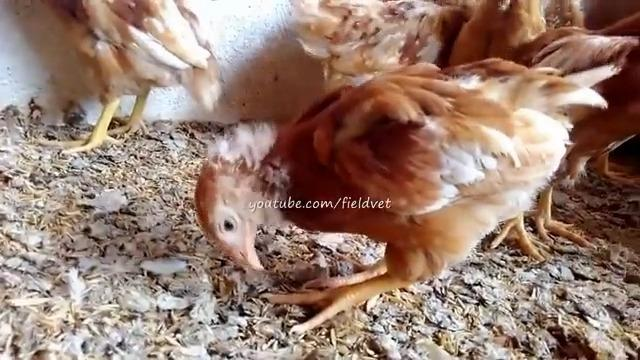Normal: (196, 58, 621, 334)
